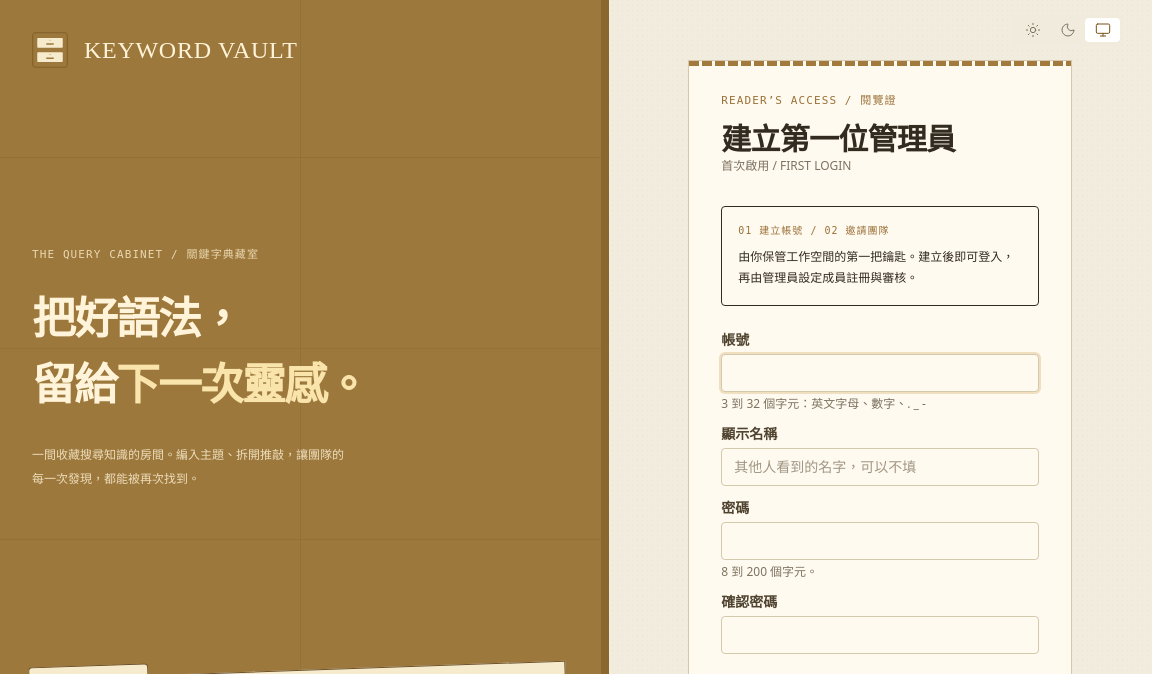
it: mismatched confirmation creates no request
Type "nat" into the field labelled "帳號".
click(880, 373); type("nat")  # box [721,354,1039,392]
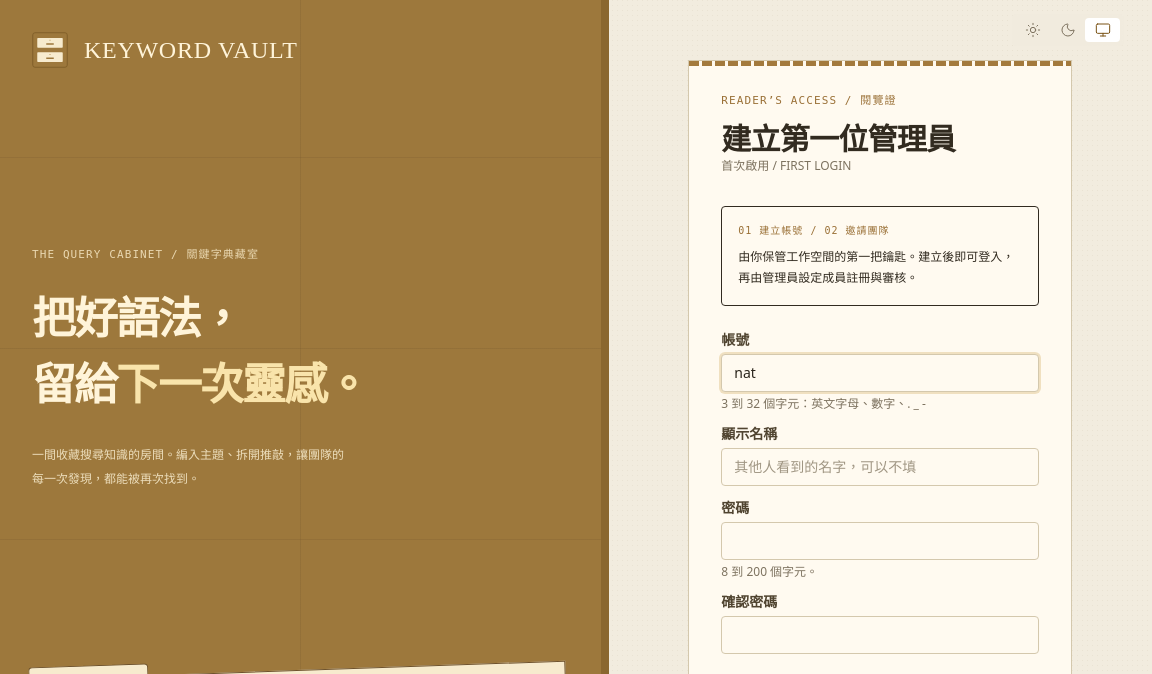
Type "correct horse" into the password field labelled "密碼".
click(880, 541); type("correct horse")  # box [721,522,1039,560]
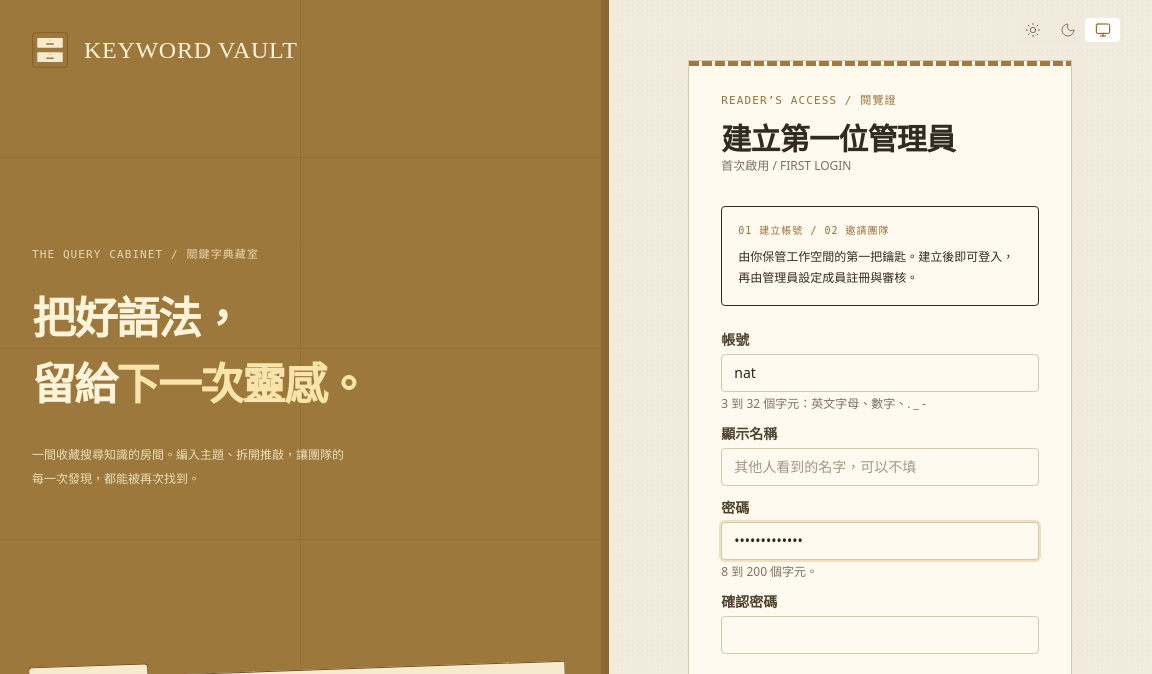
Type "different password" into the password field labelled "確認密碼".
click(880, 635); type("different password")  # box [721,616,1039,654]
(page scrolled)
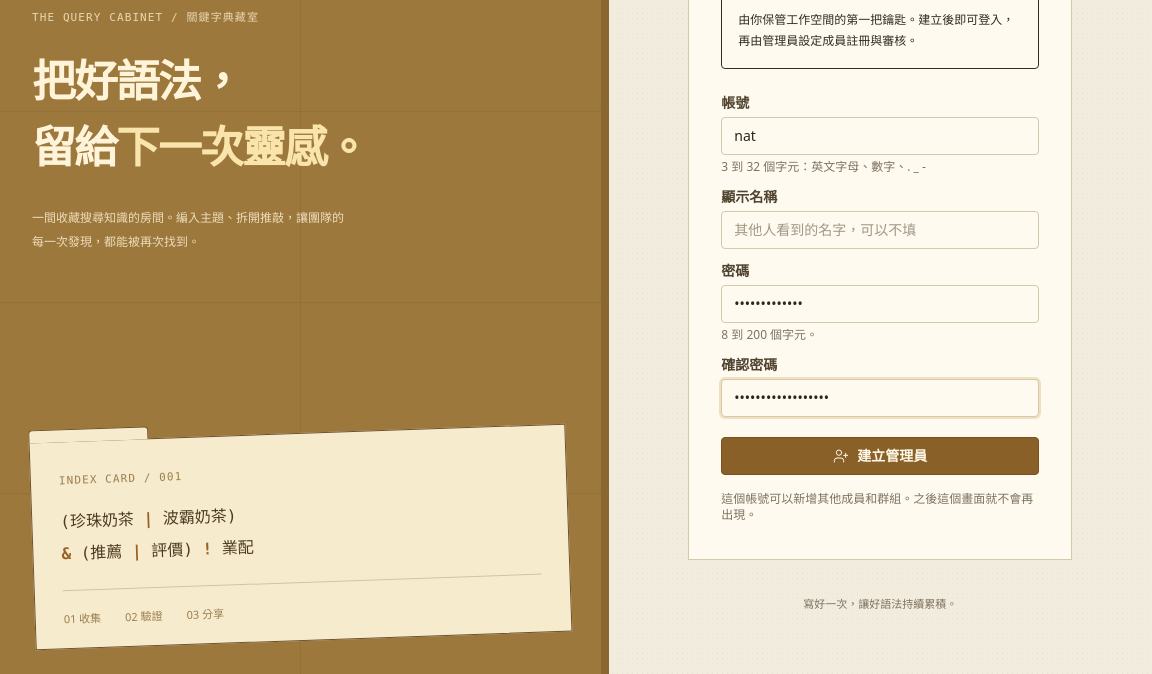
Click the button "建立管理員".
click(880, 456)  # box [721,437,1039,475]
(page scrolled)
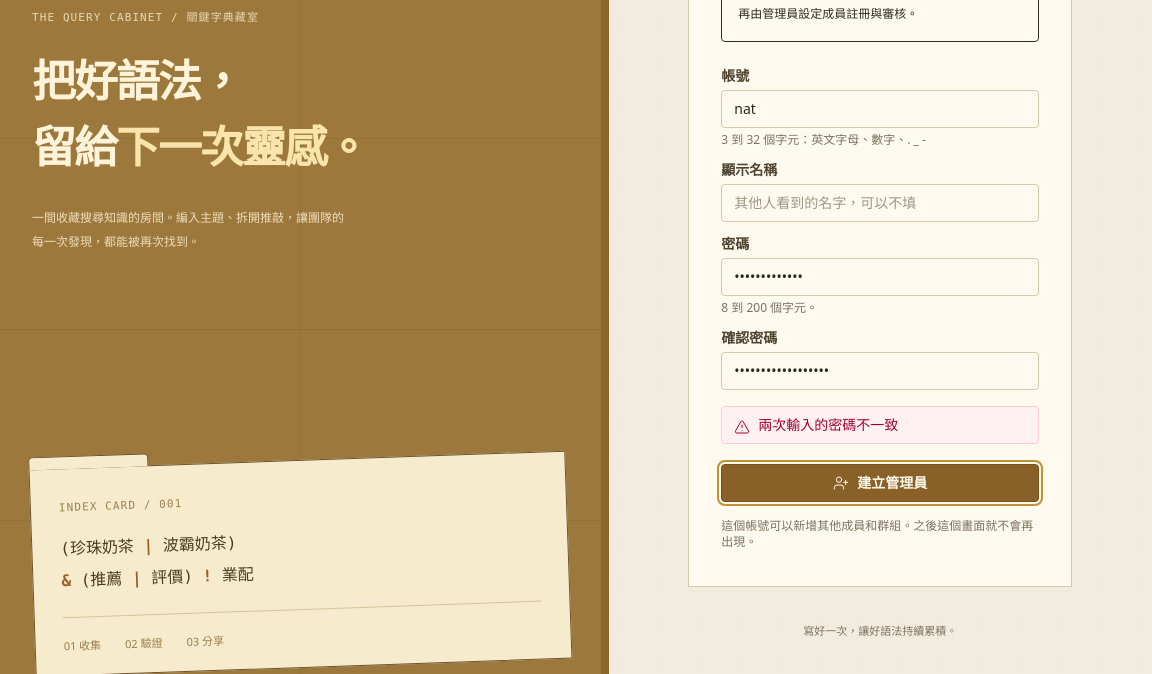
Result: the message reads "兩次輸入的密碼不一致" at [758,415,898,434]
